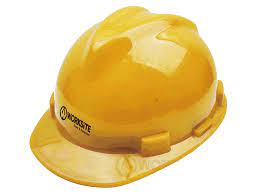Helmet: (32, 12, 221, 176)
